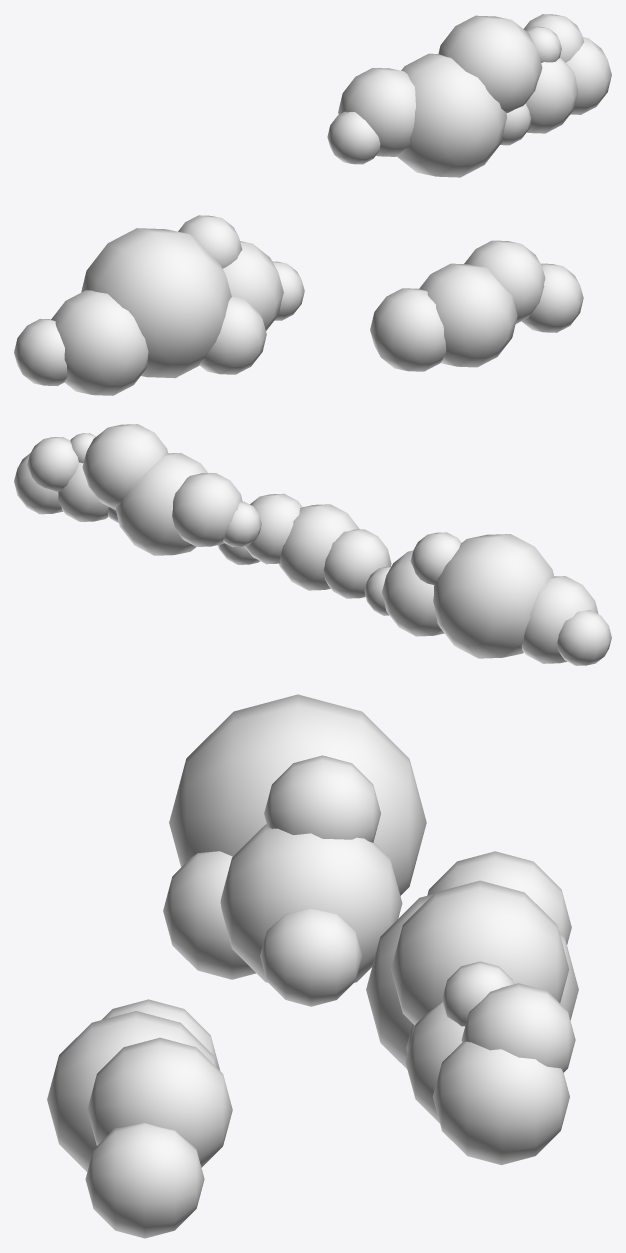
Rendered from Cloud.fbx.
3 views of the same model, one above another, from view 1: azimuth 30°, elevation 25°; view 2: azimuth 150°, elevation 25°; view 3: azimuth 270°, elevation 25° (orthographic). The views are drawn at different scales.
Visible parts, largest first — view 1: Cloud001, Cloud003, Cloud002; view 2: Cloud001, Cloud003, Cloud002; view 3: Cloud001, Cloud003, Cloud002.
Boxes of the visible parts, box(x1,y1,x2,y2) form: Cloud001: box(14, 215, 304, 395); Cloud003: box(327, 14, 611, 177); Cloud002: box(370, 240, 583, 371); Cloud001: box(364, 532, 611, 665); Cloud003: box(14, 424, 261, 555); Cloud002: box(218, 493, 391, 598); Cloud001: box(163, 694, 426, 1006); Cloud003: box(366, 851, 578, 1164); Cloud002: box(47, 999, 232, 1238).
Bounding box in the file's own units: 161 × 56.54 × 68.83.
1 material, 1 textured.
